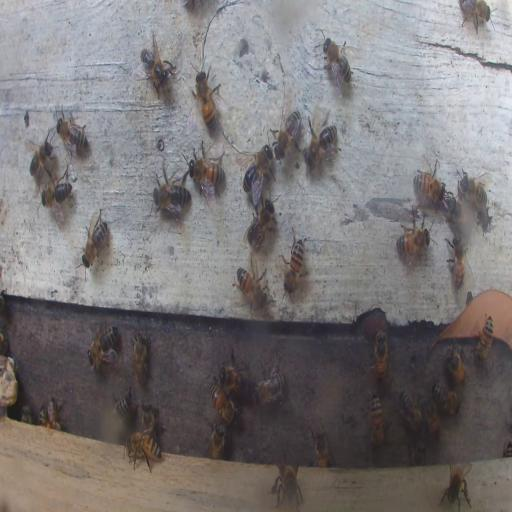nonpollenbee: (140, 35, 178, 95), (396, 209, 433, 268), (153, 172, 192, 220), (189, 146, 224, 198), (320, 34, 353, 89), (242, 142, 274, 198), (196, 63, 220, 133), (271, 106, 302, 160), (302, 123, 337, 170), (245, 197, 276, 250), (86, 321, 120, 369), (441, 461, 473, 511), (53, 108, 87, 155), (125, 430, 162, 472), (82, 209, 108, 268), (40, 174, 74, 219), (456, 167, 488, 214), (283, 232, 306, 296), (236, 265, 267, 310), (272, 458, 303, 503), (413, 164, 447, 203), (218, 357, 250, 397), (446, 195, 474, 240), (446, 232, 468, 288), (28, 132, 54, 178), (131, 329, 151, 387), (458, 0, 493, 33), (210, 384, 238, 425), (253, 369, 284, 405), (398, 389, 422, 431), (474, 315, 494, 364), (370, 392, 386, 450), (432, 384, 460, 414), (445, 347, 467, 385), (206, 421, 226, 459), (112, 383, 135, 416), (374, 331, 388, 383), (312, 428, 329, 466), (426, 396, 440, 440), (141, 406, 158, 438), (47, 399, 62, 430), (410, 439, 426, 465), (20, 404, 32, 422)
pollenbee: (39, 406, 51, 430)
